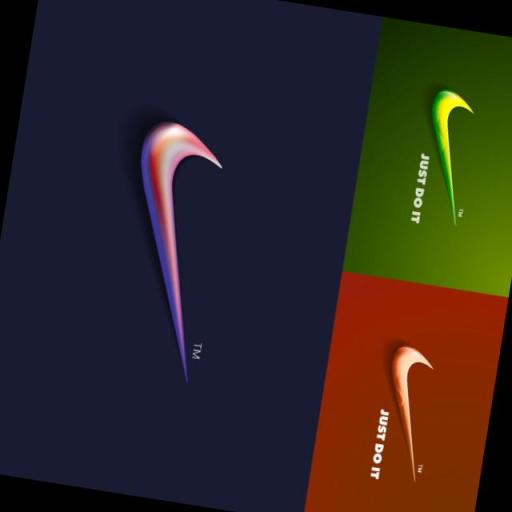Nike: (110, 118, 224, 376)
